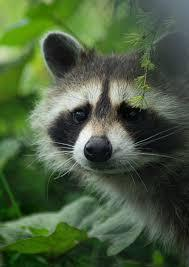raccoon: (3, 4, 189, 267)
